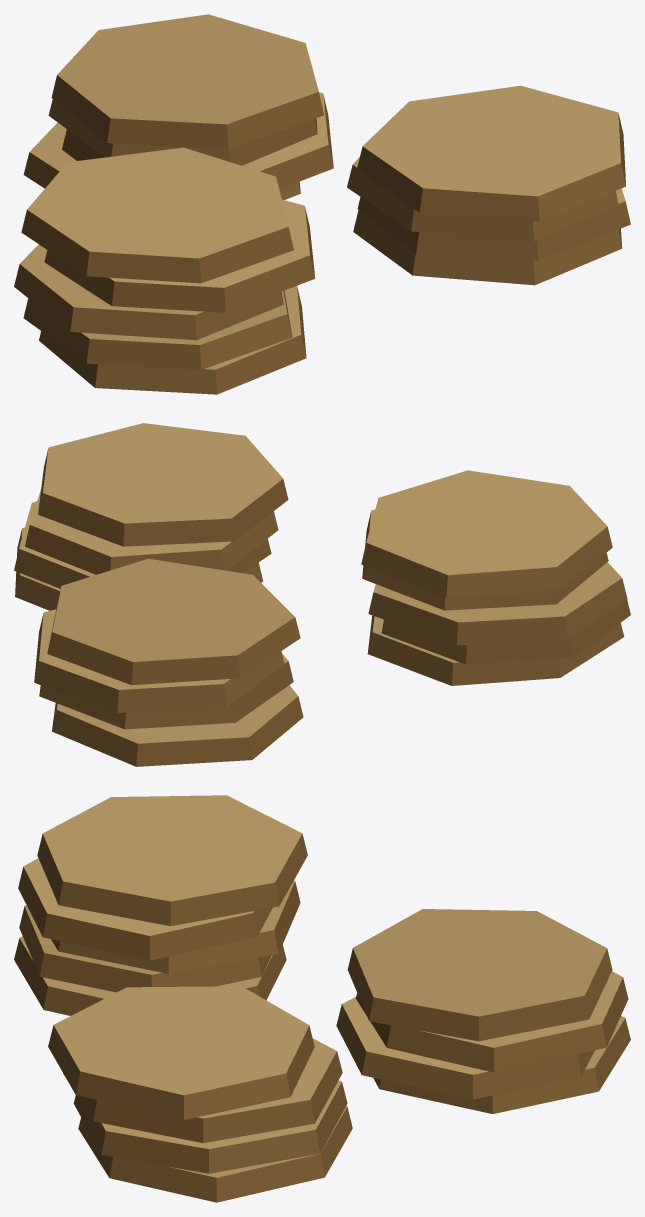
File: storage_oat_cake.glb
The picture shows the model from 3 angles, top to bottom: view 1: azimuth 30°, elevation 25°; view 2: azimuth 150°, elevation 25°; view 3: azimuth 270°, elevation 25°; orthographic projection. The views are drawn at different scales.
Parts seen in each view (by area): view 1: storage_oat_cake; view 2: storage_oat_cake; view 3: storage_oat_cake.
Boxes of the visible parts, x1,y1,x2,y2 form: storage_oat_cake: (14,14,630,394); storage_oat_cake: (14,423,630,766); storage_oat_cake: (14,795,630,1202).
Size of the model in its own units: 0.9746 by 0.195 by 0.8742.
